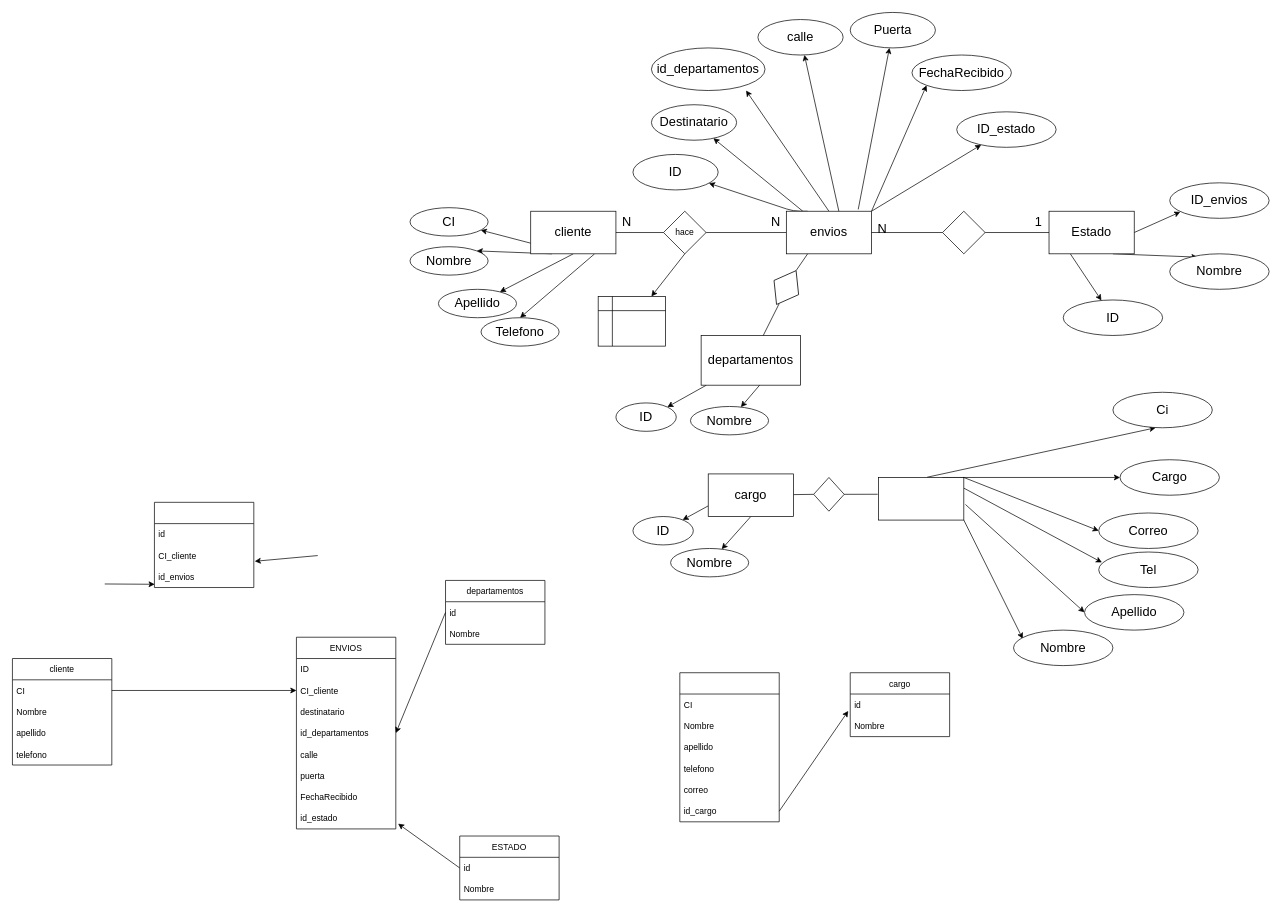
Image size: 1282x912. Some labels were removed from this diagram. Each missing label, with the box of its shape:
en: (942, 211, 985, 254)
funcionario: (878, 477, 964, 520)
FUNCIONARIOS: (679, 672, 779, 822)
Mis_ Envios: (597, 296, 666, 346)
mis_envios: (154, 502, 254, 588)
tiene: (813, 477, 844, 511)
va: (763, 263, 808, 312)
